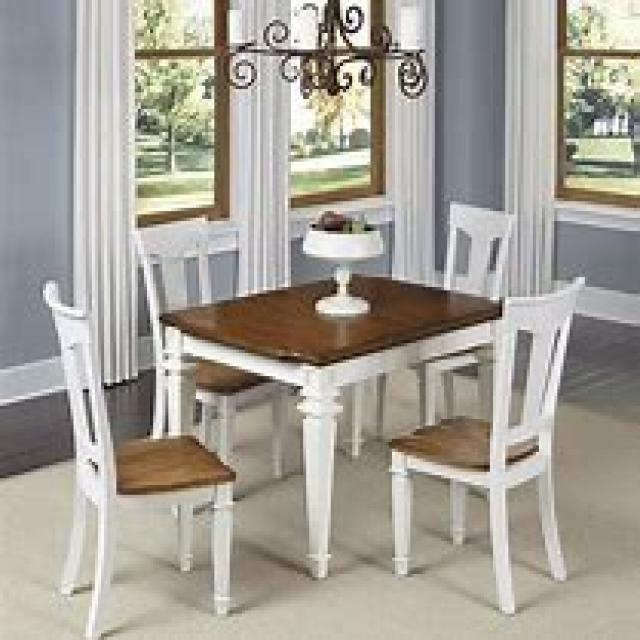chair: (40, 277, 236, 637), (386, 274, 585, 614), (132, 214, 288, 505), (349, 198, 518, 458)
table: (156, 268, 505, 578)
